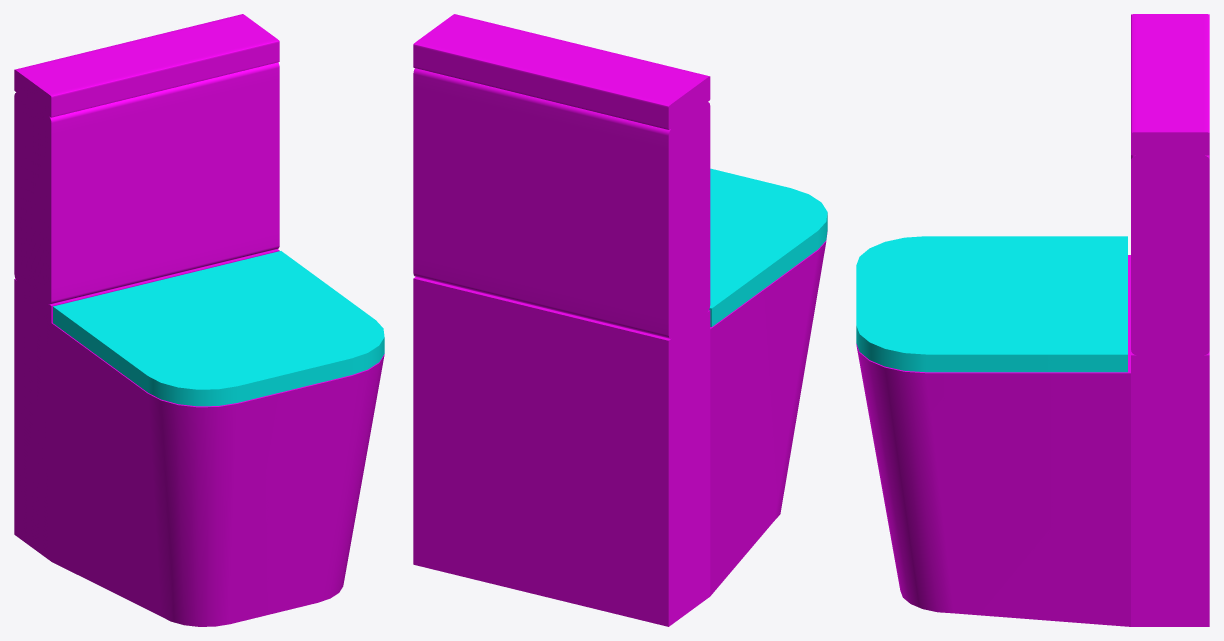
File: Toilet.fbx
3 renders of one model, left to right at view 1: azimuth 30°, elevation 25°; view 2: azimuth 150°, elevation 25°; view 3: azimuth 270°, elevation 25°, orthographic. The views are drawn at different scales.
Visible parts, largest first — view 1: pasted__pCube1, pasted__pCube2, pasted__pPlane1, pasted__pCube3; view 2: pasted__pCube1, pasted__pCube2, pasted__pCube3, pasted__pPlane1; view 3: pasted__pCube1, pasted__pPlane1, pasted__pCube2, pasted__pCube3.
Part boxes in pixels (box(x1,y1,x2,y2)): pasted__pCube1: box(14, 249, 384, 626); pasted__pCube2: box(14, 62, 279, 304); pasted__pPlane1: box(53, 251, 384, 406); pasted__pCube3: box(14, 14, 279, 117); pasted__pCube1: box(413, 231, 827, 626); pasted__pCube2: box(413, 68, 710, 338); pasted__pCube3: box(413, 14, 710, 129); pasted__pPlane1: box(709, 168, 827, 326); pasted__pCube1: box(856, 255, 1209, 626); pasted__pPlane1: box(856, 236, 1127, 372); pasted__pCube2: box(1131, 155, 1209, 355); pasted__pCube3: box(1131, 14, 1209, 155).
Size of the model in its own units: 1.29 by 2.52 by 1.63.
